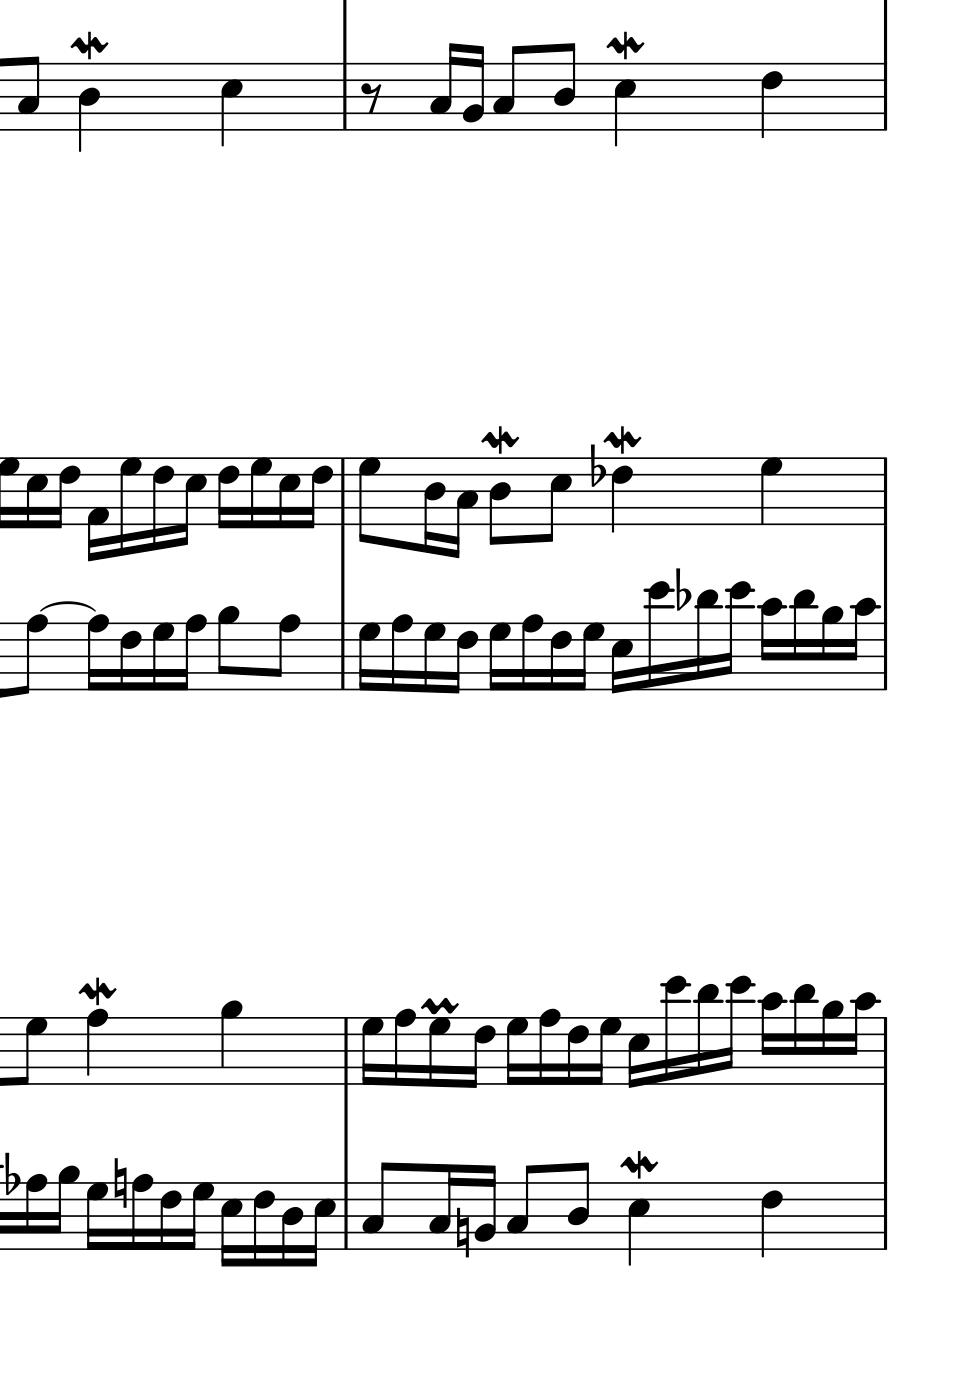16_1: (86, 458, 110, 563)
16_10: (847, 992, 879, 1086), (848, 596, 878, 694), (758, 597, 784, 694), (758, 992, 784, 1088)
16_11: (693, 982, 720, 1088), (693, 587, 719, 694), (789, 981, 815, 1087), (789, 587, 815, 692)
16_12: (720, 580, 754, 694), (721, 975, 753, 1089), (643, 580, 673, 692), (660, 975, 688, 1089)
16_2: (472, 1163, 497, 1252), (461, 43, 485, 133)
16_3: (449, 456, 478, 560), (427, 40, 459, 131), (426, 1162, 457, 1251)
16_4: (422, 456, 445, 555), (280, 1180, 304, 1268)
16_5: (307, 1181, 336, 1268), (179, 454, 207, 545), (218, 1180, 242, 1268), (626, 1016, 651, 1089), (609, 621, 634, 694), (277, 455, 300, 530), (24, 455, 48, 529)
16_6: (463, 1014, 495, 1091), (449, 620, 479, 695), (50, 455, 80, 530), (151, 456, 174, 550), (304, 456, 333, 529), (251, 1179, 275, 1268), (118, 620, 143, 692), (548, 620, 573, 694), (565, 1015, 590, 1087), (158, 1181, 182, 1252), (216, 456, 239, 530)
16_7: (118, 456, 142, 555), (591, 1015, 622, 1088), (183, 1180, 214, 1252), (574, 620, 603, 694), (425, 1014, 451, 1090), (421, 620, 447, 695), (150, 620, 174, 694), (486, 620, 510, 694), (504, 1015, 528, 1088), (358, 1015, 383, 1087), (248, 455, 272, 530), (84, 1180, 107, 1255), (356, 621, 380, 694)
16_8: (176, 614, 206, 692), (84, 614, 110, 694), (518, 612, 543, 692), (536, 1008, 561, 1087), (129, 1173, 154, 1252), (389, 613, 413, 694), (392, 1007, 416, 1088), (23, 1173, 46, 1251)
16_9: (49, 1164, 78, 1252), (819, 606, 845, 692), (819, 1001, 845, 1086)
4_4: (77, 62, 100, 155)
4_5: (625, 1181, 651, 1268), (218, 62, 244, 150), (612, 62, 637, 148)
4_6: (758, 62, 784, 142), (758, 1180, 784, 1261), (609, 458, 633, 536)
4_7: (758, 456, 783, 528)
4_8: (84, 1008, 109, 1087)
4_9: (218, 999, 242, 1086)
8_3: (360, 1160, 393, 1251), (491, 43, 524, 133), (504, 1163, 537, 1252), (16, 55, 40, 133)
8_4: (552, 41, 577, 131), (565, 1161, 590, 1252), (488, 457, 512, 547)
8_5: (539, 456, 571, 544)
8_7: (356, 456, 381, 546), (16, 1015, 46, 1086)
8_8: (13, 613, 48, 697), (266, 612, 300, 691)
8_9: (215, 606, 240, 692)
Flat: (673, 566, 692, 614), (3, 1151, 19, 1199), (588, 444, 603, 489)
Mordent: (76, 975, 120, 1008), (605, 29, 645, 62), (69, 29, 108, 62), (602, 423, 642, 456), (620, 1148, 658, 1182), (482, 423, 519, 456)
Natural: (111, 1155, 128, 1211), (454, 1206, 470, 1260)
Rests8: (358, 80, 384, 116)
ShortTrill: (418, 995, 462, 1014)
Single_barline: (875, 63, 893, 130), (334, 622, 352, 690), (337, 1017, 355, 1085), (334, 457, 351, 526), (337, 1182, 354, 1250), (336, 63, 353, 129), (876, 458, 893, 524), (876, 1183, 893, 1249), (877, 622, 893, 690), (877, 1017, 893, 1085)
Slur: (39, 599, 95, 613)
